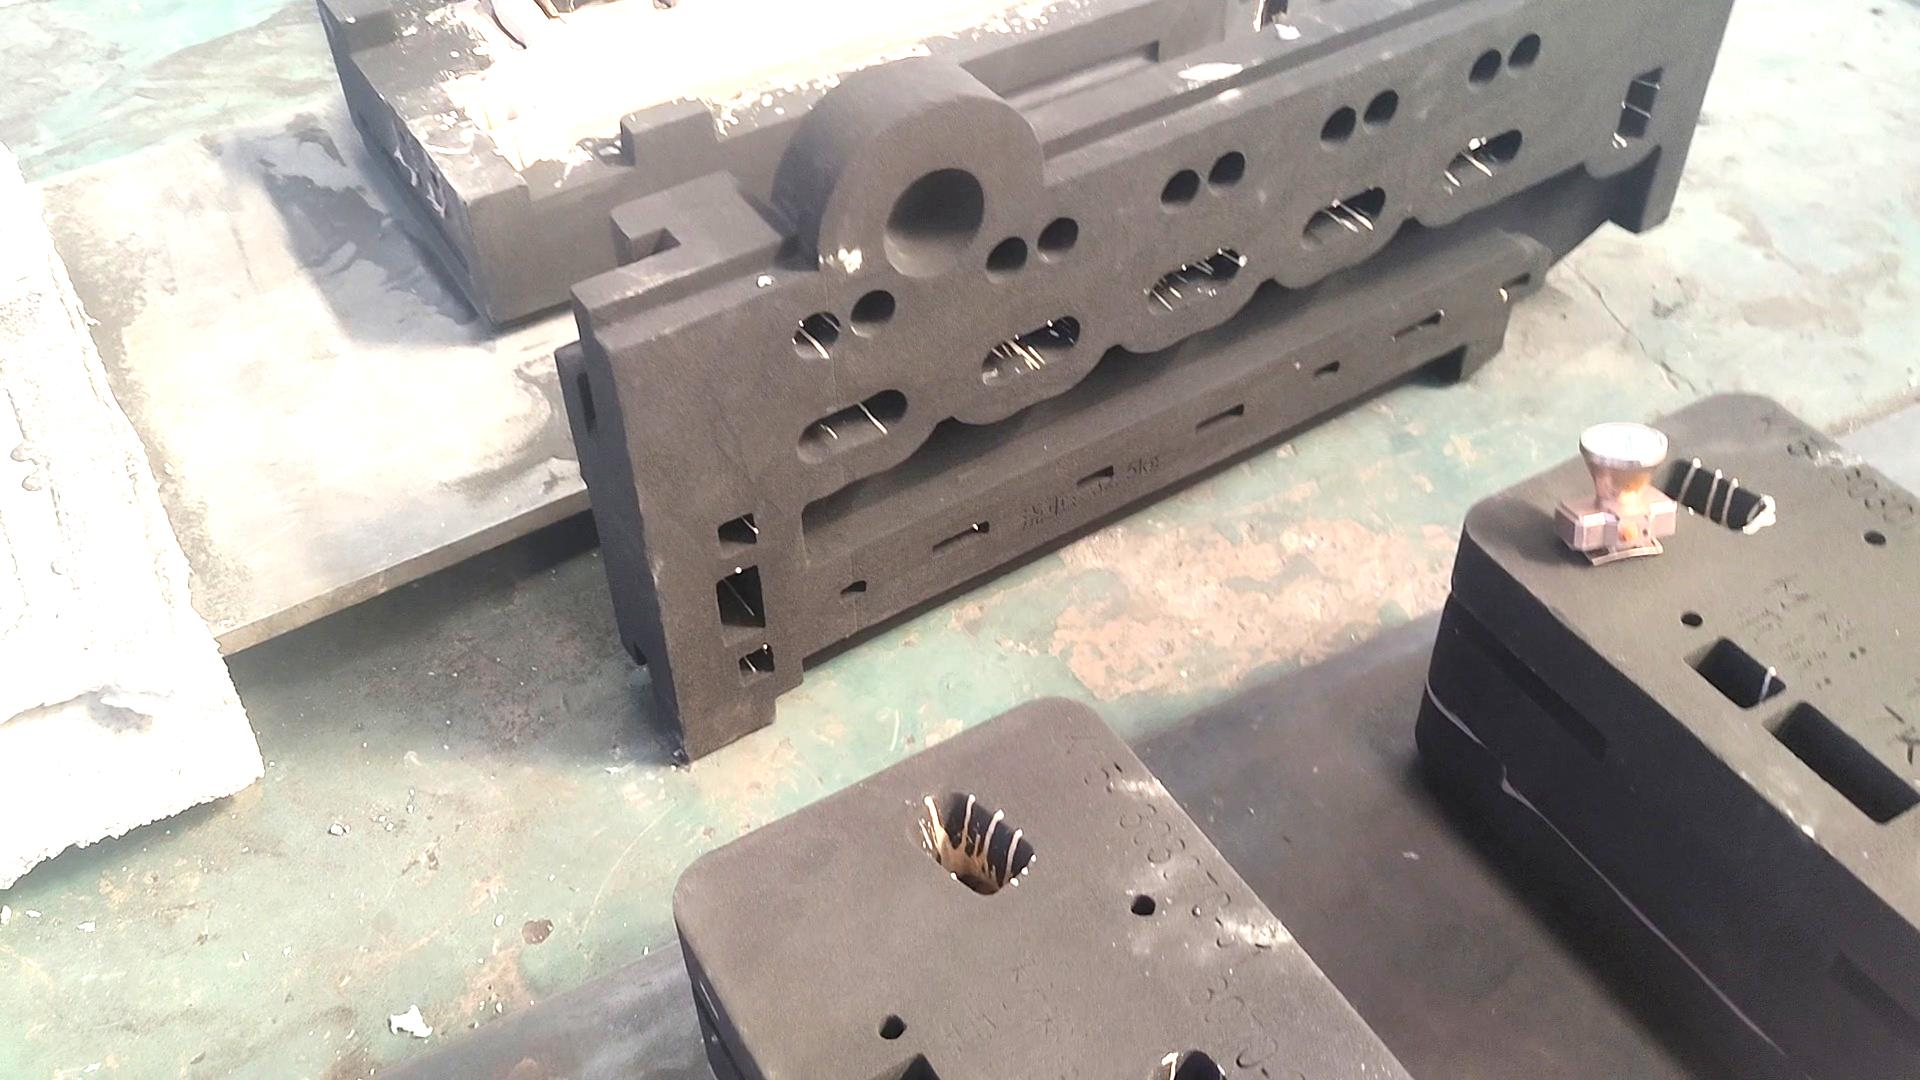pouring hole: (884, 167, 985, 278)
